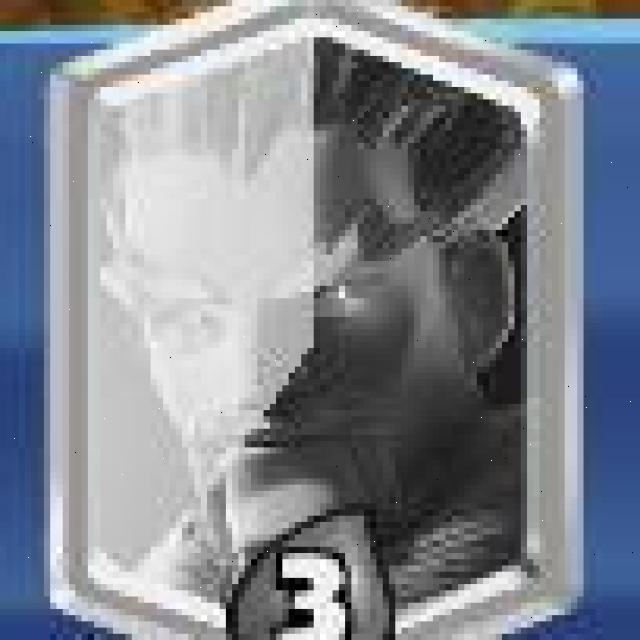Ice_Wizard: (55, 0, 579, 640)
